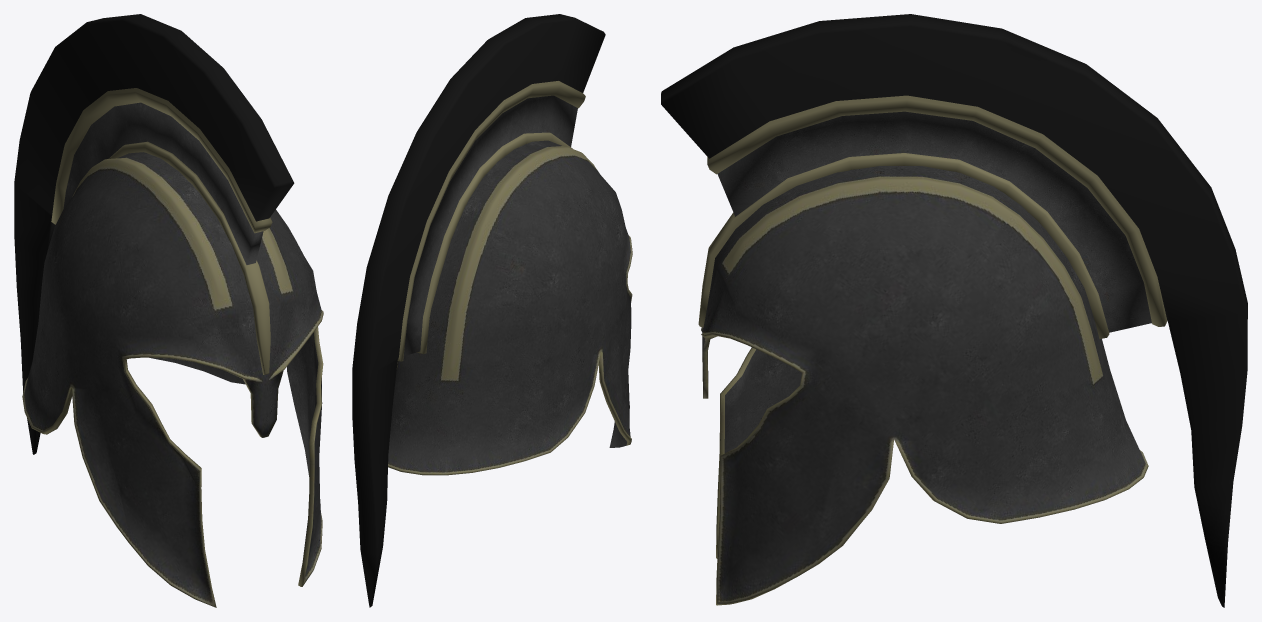
3 renders of one model, left to right at view 1: azimuth 30°, elevation 25°; view 2: azimuth 150°, elevation 25°; view 3: azimuth 270°, elevation 25°, orthographic. The views are drawn at different scales.
Parts seen in each view (by area): view 1: Achilles, Hair; view 2: Achilles, Hair; view 3: Achilles, Hair.
Boxes of the visible parts, x1,y1,x2,y2 form: Achilles: (22, 152, 323, 607); Hair: (14, 14, 294, 454); Achilles: (388, 140, 632, 475); Hair: (352, 14, 605, 607); Achilles: (701, 166, 1148, 605); Hair: (661, 14, 1247, 607).
Bounding box in the file's own units: 0.8708 × 2 × 1.8.
2 materials, 2 textured.
